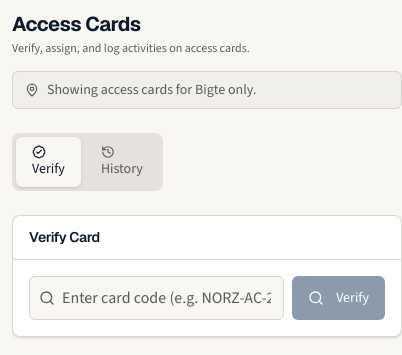
Test: CoordinatorAccessCardsPage › reports a load failure instead of rendering a silently empty table
Click the tab "History": (122, 162) [85, 136, 159, 186]
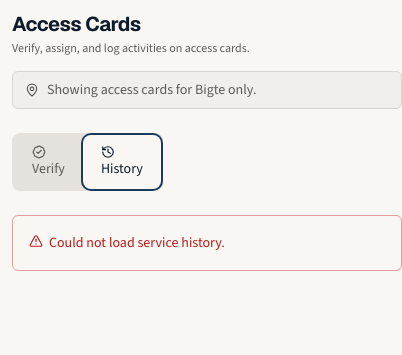
Expected: the message shows "Could not load", [49, 232, 225, 252]
